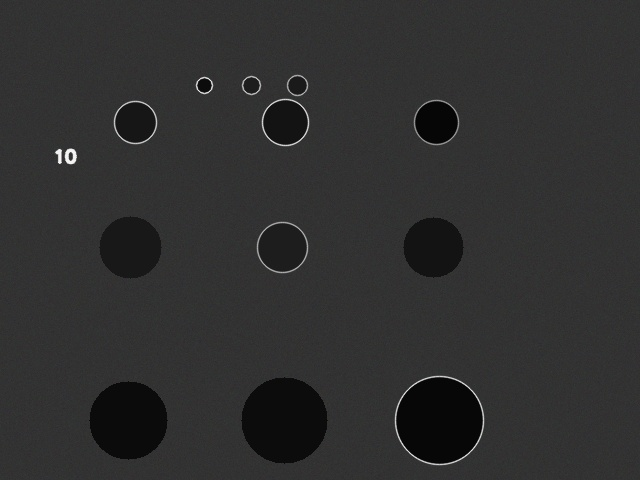hole: (395, 376, 483, 464), (241, 377, 327, 463), (89, 381, 167, 459), (99, 216, 161, 278), (403, 217, 463, 277), (257, 222, 307, 272), (262, 99, 308, 145), (414, 100, 458, 144), (114, 101, 156, 143), (287, 75, 307, 95), (242, 76, 260, 94), (196, 77, 212, 93)
